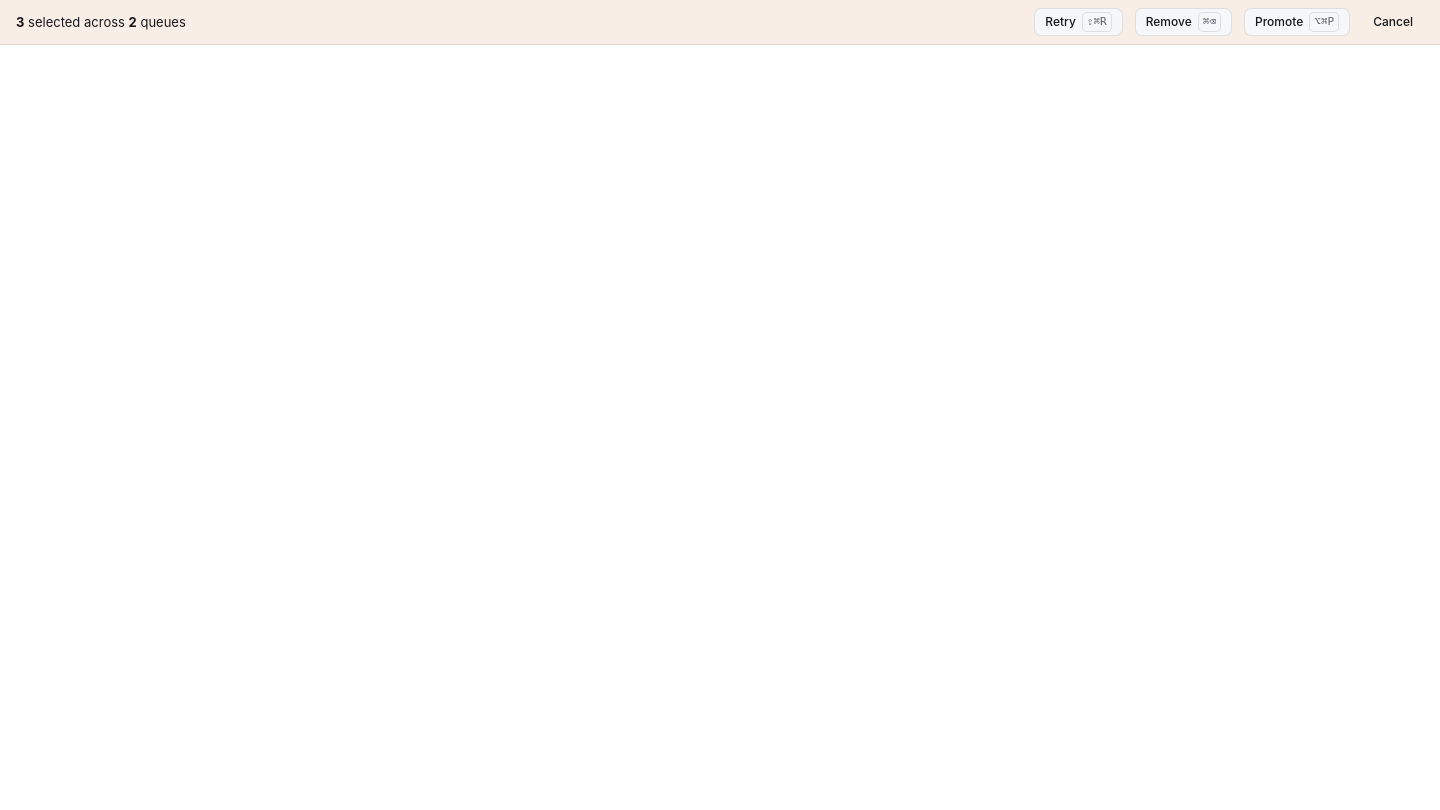
Test case: BulkActionBar: cross-queue (K>1) paths › complete view renders per-queue breakdown summary
The image size is (1440, 810).
Click the button with test id "bulk-action-retry": (1078, 22) [1034,8,1123,36]
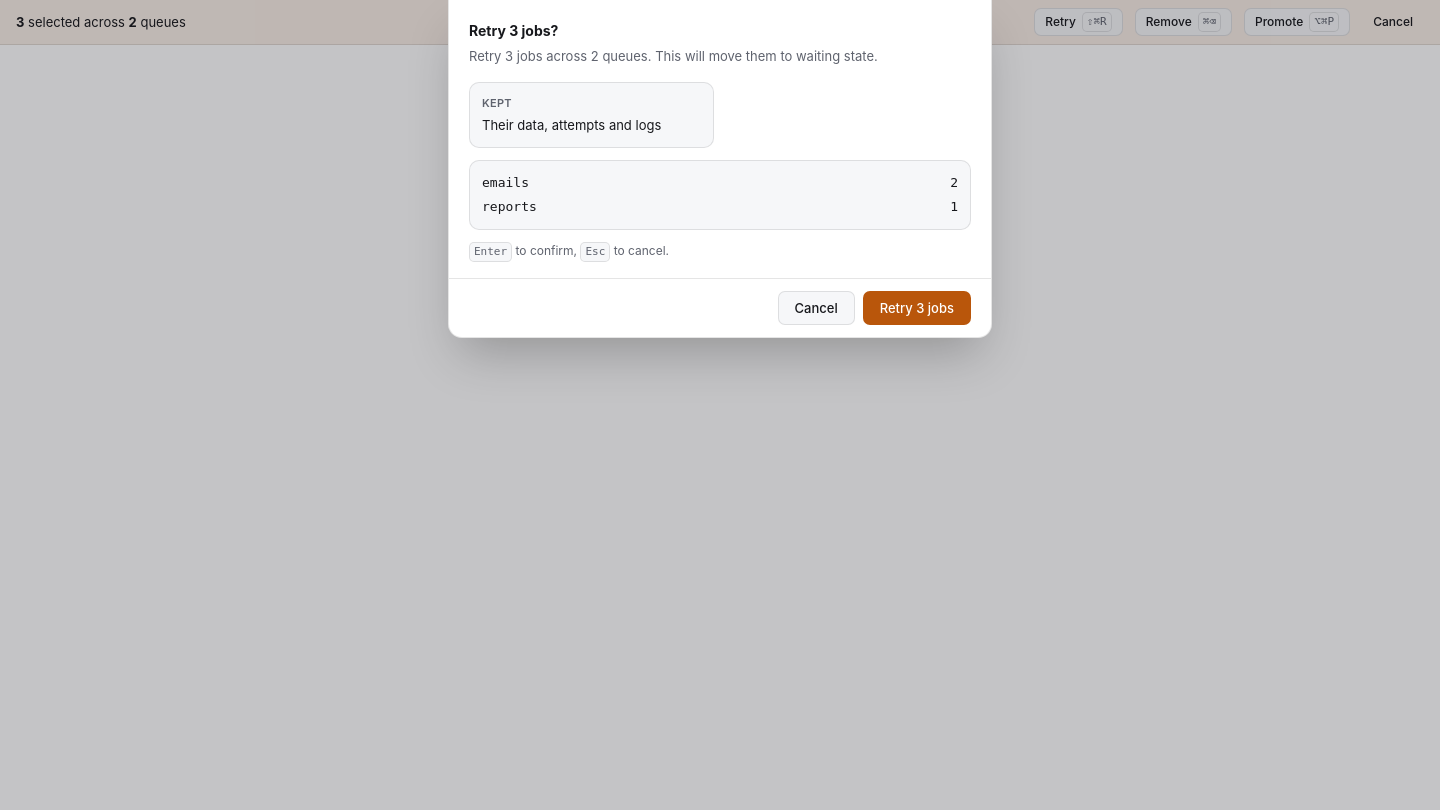
Click the button with test id "bulk-action-bar-execute": (917, 308) [863,291,971,325]
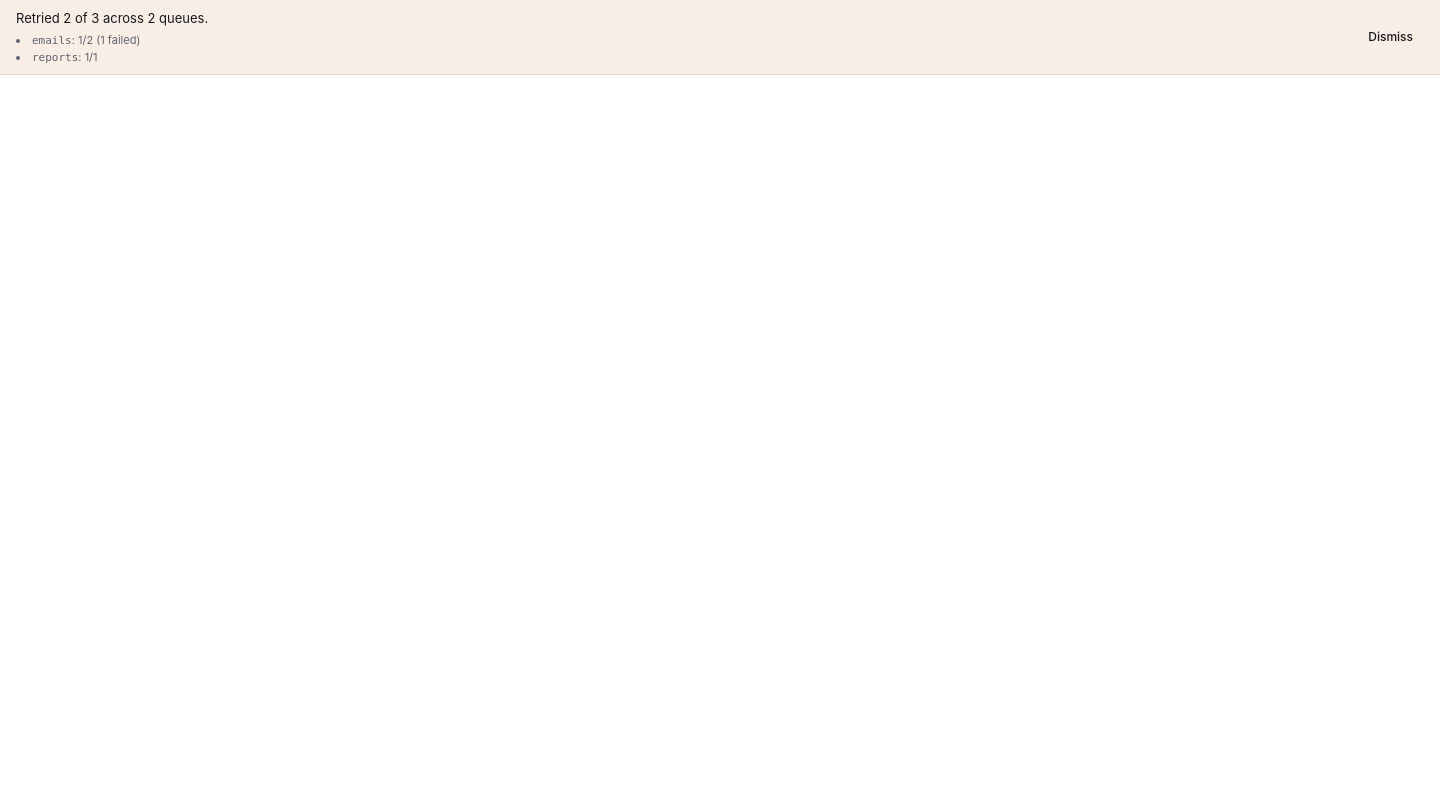
Expected: the list with test id "bulk-action-bar-complete-breakdown" shows "emails", [32,34,72,47]
Expected: the list with test id "bulk-action-bar-complete-breakdown" shows "1/2", [32,33,140,64]
Expected: the list with test id "bulk-action-bar-complete-breakdown" shows "1 failed", [93,33,140,47]
